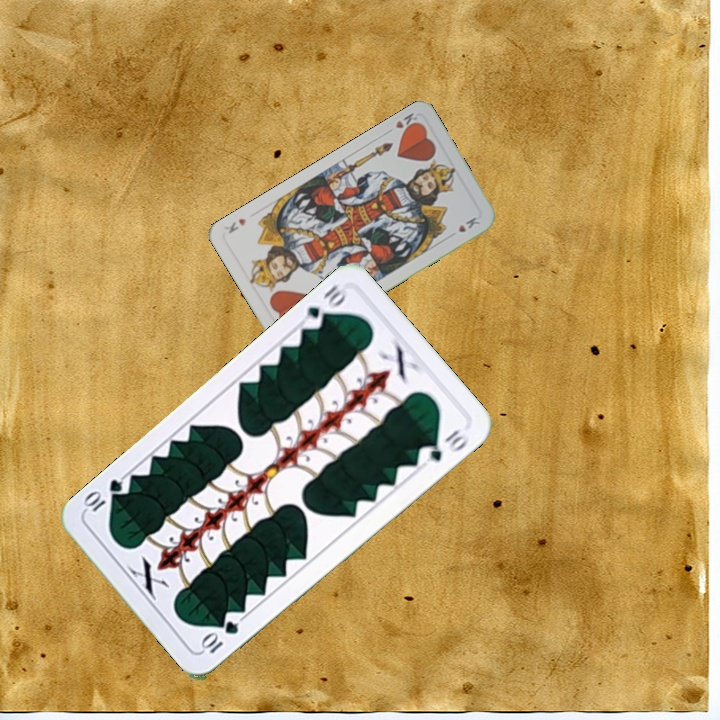G10: (302, 280, 351, 333), (197, 616, 242, 657)
HK: (382, 109, 423, 136)
